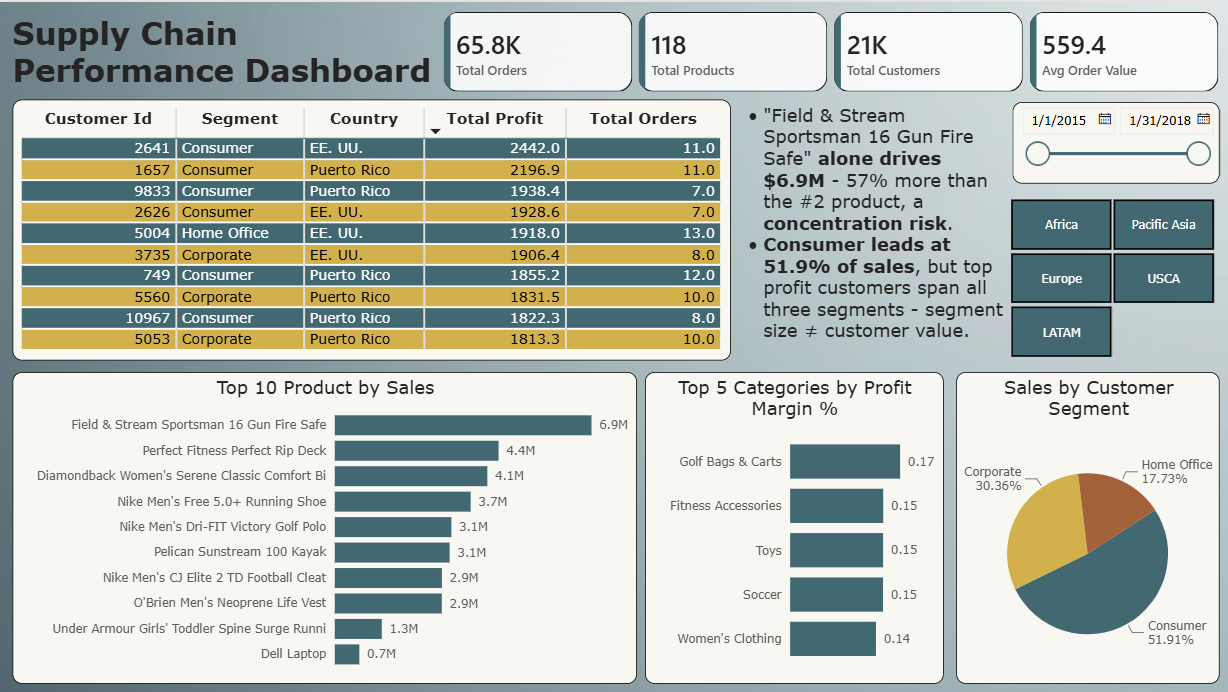

Layout of this report page (visuals, bound fields, positions):
{"tool":"powerbi","page":{"name":"Product & Customer Insights","canvas":[1280,720],"ordinal":2},"visuals":[{"type":"slicer","fields":{"Values":["fact_orders.order_date"]},"box":[1052.5,103.8,215.4,85.1],"z":0},{"type":"cardVisual","fields":{"Data":["_Measures.Total Orders","_Measures.Total Products","_Measures.Total Customers","_Measures.Avg Order Value"]},"box":[451.2,0,828.8,103.8],"z":1000},{"type":"textbox","box":[765,101.2,278.8,271.2],"z":2000},{"type":"textbox","box":[12.3,8.2,439.1,94.7],"z":3000},{"type":"barChart","title":"Top 10 Product by Sales","fields":{"Category":["dim_products.product_name"],"Y":["_Measures.Total Sales"]},"box":[12.5,385,648.8,323.8],"z":4000},{"type":"barChart","title":"Top 5 Categories by Profit Margin %","fields":{"Category":["dim_categories.category_name"],"Y":["_Measures.Profit Margin %"]},"box":[670,385,310,323.8],"z":5000},{"type":"pieChart","title":"Sales by Customer Segment","fields":{"Category":["dim_customers.customer_segment"],"Y":["_Measures.Total Sales"]},"box":[993.8,385,273.8,323.8],"z":6000},{"type":"tableEx","fields":{"Values":["dim_customers.customer_id","dim_customers.customer_segment","dim_customers.customer_country","_Measures.Total Profit","_Measures.Total Orders"]},"box":[12.5,101.2,746.2,271.2],"z":7000},{"type":"slicer","fields":{"Values":["fact_orders.market"]},"box":[1030,201.2,250,171.2],"z":8000}]}

Visuals, with their boxes in screenshot pixels (x1, y1, x2, y2), scaled from the page's 1280x720 canvas onto the 1228x692 screenshot:
slicer - fact_orders.order_date: (x1=1010, y1=100, x2=1216, y2=182)
cardVisual - _Measures.Total Orders x _Measures.Total Products: (x1=433, y1=0, x2=1227, y2=100)
textbox: (x1=734, y1=97, x2=1001, y2=358)
textbox: (x1=12, y1=8, x2=433, y2=99)
"Top 10 Product by Sales" barChart: (x1=12, y1=370, x2=634, y2=681)
"Top 5 Categories by Profit Margin %" barChart: (x1=643, y1=370, x2=940, y2=681)
"Sales by Customer Segment" pieChart: (x1=953, y1=370, x2=1216, y2=681)
tableEx - dim_customers.customer_id x dim_customers.customer_segment: (x1=12, y1=97, x2=728, y2=358)
slicer - fact_orders.market: (x1=988, y1=193, x2=1227, y2=358)
